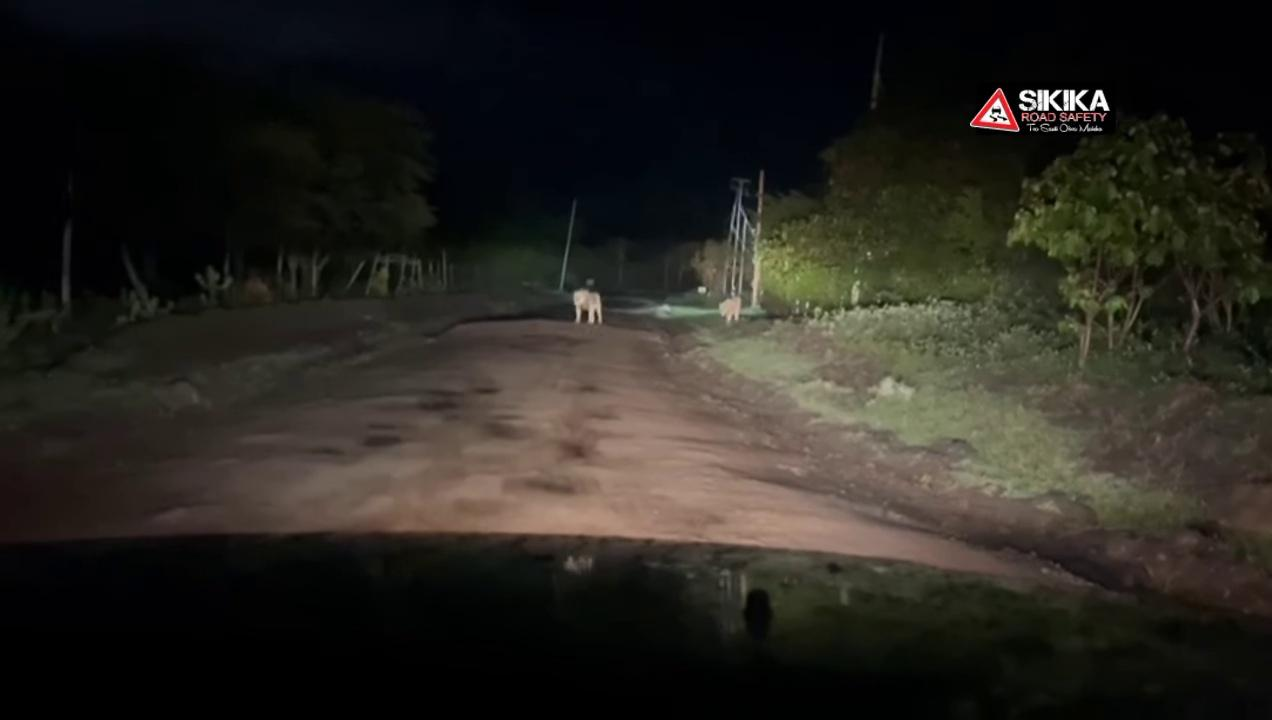lions: (556, 279, 609, 336)
